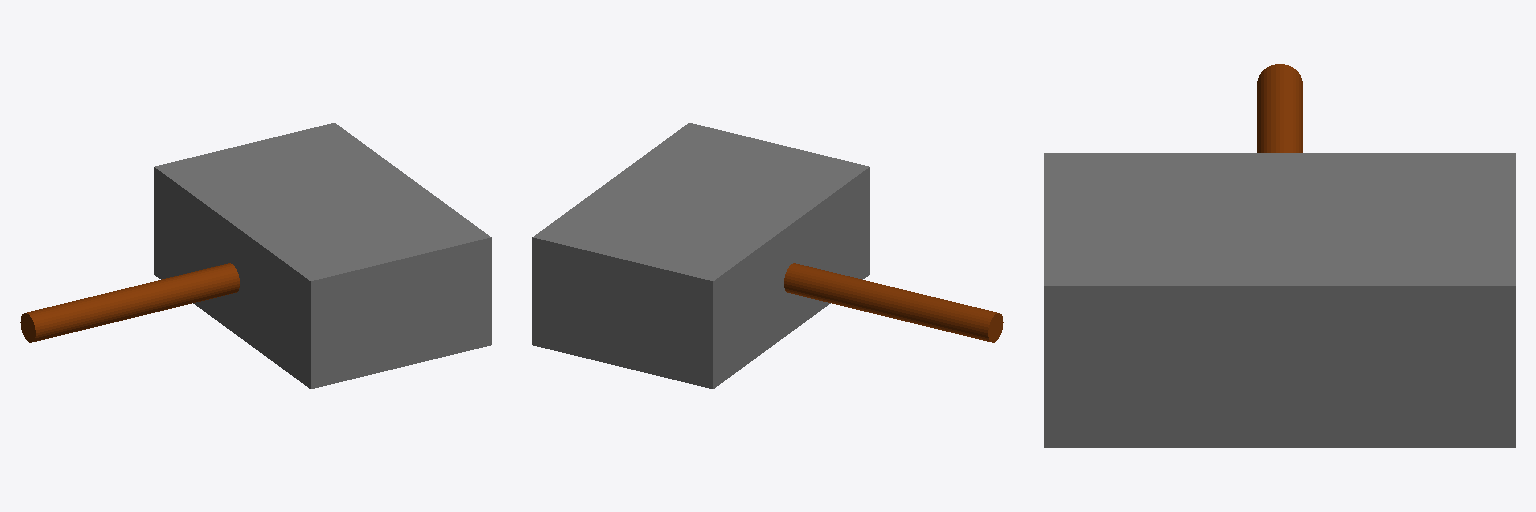
The robot description file, URDF, robot "handle_head":
<?xml version="1.0"?>
<robot name="handle_head">

  <link name="handle_head">
    <!-- Handle -->
    <visual>
              <origin xyz="0 0 0" rpy="0 -1.5707963267948966 0"/>
        <geometry>
          <cylinder length="0.07748233121468738" radius="0.005025563024500206"/>
        </geometry>
        
      <material name="brown">
        <color rgba="0.55 0.27 0.07 1.0"/>
      </material>
    </visual>
    <collision>
              <origin xyz="0 0 0" rpy="0 -1.5707963267948966 0"/>
        <geometry>
          <cylinder length="0.07748233121468738" radius="0.005025563024500206"/>
        </geometry>
        
    </collision>

    <!-- Head -->
    <visual>
              <origin xyz="0.0730334027898032 0 0" rpy="0 0 0"/>
        <geometry>
          <box size="0.06858447436491903 0.103014965577793 0.03916530202828686"/>
        </geometry>
        
      <material name="gray">
        <color rgba="0.5 0.5 0.5 1.0"/>
      </material>
    </visual>
    <collision>
              <origin xyz="0.0730334027898032 0 0" rpy="0 0 0"/>
        <geometry>
          <box size="0.06858447436491903 0.103014965577793 0.03916530202828686"/>
        </geometry>
        
    </collision>

    <inertial>
      <origin xyz="0.07139230578256064 0 0" rpy="0 0 0"/>
      <mass value="0.13268173148614576"/>
      <inertia ixx="0.00013131542105968716" iyy="8.474848298363293e-05" izz="0.00018286851870880213" ixy="0" ixz="0" iyz="0"/>
    </inertial>
  </link>

</robot>

--- Facts derived from the render (not from the file) ---
3 views of the same robot in one strip: view 1: azimuth 30°, elevation 25°; view 2: azimuth 150°, elevation 25°; view 3: azimuth 270°, elevation 25° (orthographic).
Model handle_head with 1 links and 0 joints (none), rooted at handle_head, posed all joints at 0.
Links seen in each view (by area): view 1: handle_head; view 2: handle_head; view 3: handle_head.
Boxes of the visible links, x1,y1,x2,y2 form: handle_head: (20, 123, 491, 388); handle_head: (532, 123, 1003, 388); handle_head: (1044, 64, 1515, 447).
Bounding box of the posed robot: 0.1461 × 0.103 × 0.0392 m (x, y, z).
Geometry: primitives only (box / cylinder / sphere), no mesh files.
